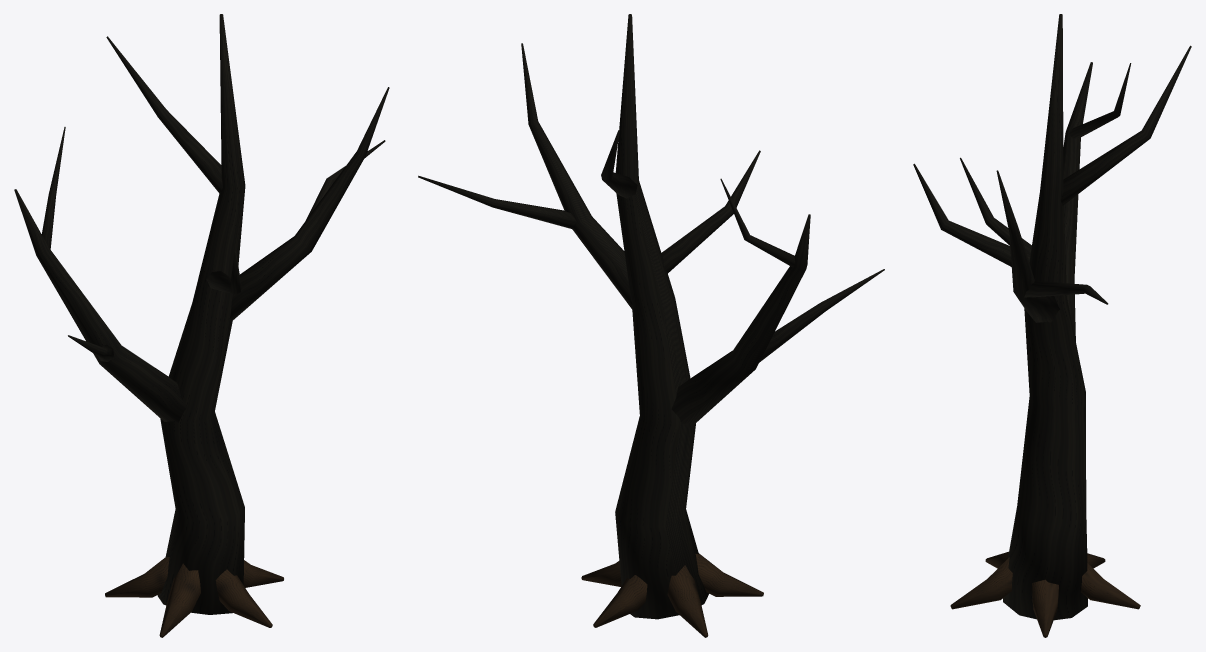
Rendered from dead_tree.glb.
3 renders of one model, left to right at view 1: azimuth 30°, elevation 25°; view 2: azimuth 150°, elevation 25°; view 3: azimuth 270°, elevation 25°, orthographic. The views are drawn at different scales.
Parts seen in each view (by area): view 1: dead_tree; view 2: dead_tree; view 3: dead_tree.
Boxes of the visible parts, bbox=[...] form: dead_tree: bbox=[14, 14, 389, 637]; dead_tree: bbox=[418, 14, 884, 637]; dead_tree: bbox=[913, 14, 1191, 637].
Bounding box in the file's own units: 3.01 × 4.3 × 1.8.
Materials: 1 (1 with a texture image).
